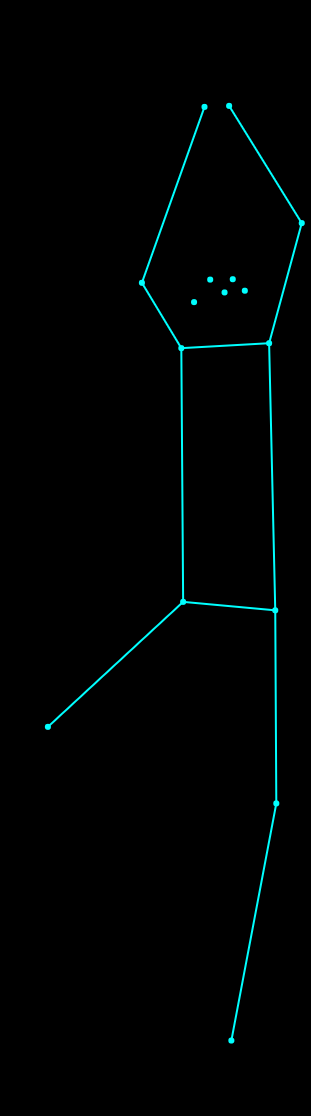tree: (40, 75, 302, 1050)
